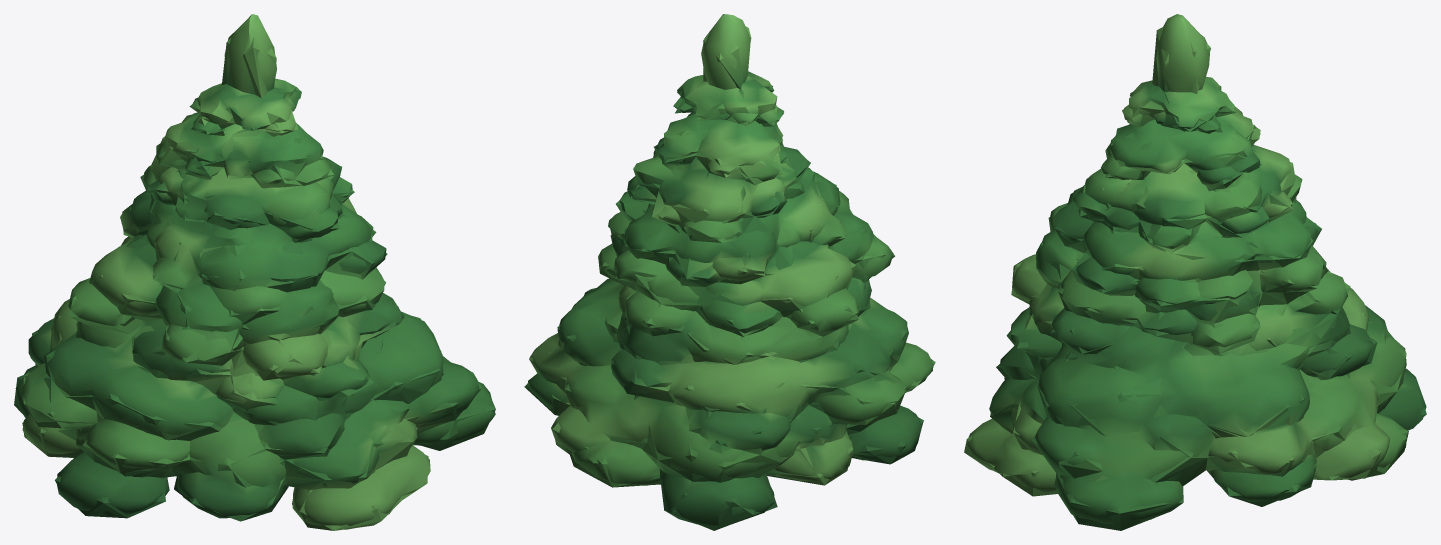
The model's file is pine_mature_medium_bushy.glb.
The picture shows the model from 3 angles, left to right: view 1: azimuth 30°, elevation 25°; view 2: azimuth 150°, elevation 25°; view 3: azimuth 270°, elevation 25°; orthographic projection. The views are drawn at different scales.
Parts seen in each view (by area): view 1: pine_mature_medium_bushy_LOD1, pine_mature_medium_bushy_LOD2; view 2: pine_mature_medium_bushy_LOD1, pine_mature_medium_bushy_LOD2; view 3: pine_mature_medium_bushy_LOD1, pine_mature_medium_bushy_LOD2.
Boxes of the visible parts, bbox=[...] form: pine_mature_medium_bushy_LOD1: bbox=[15, 14, 495, 529]; pine_mature_medium_bushy_LOD2: bbox=[14, 37, 495, 530]; pine_mature_medium_bushy_LOD1: bbox=[528, 14, 933, 525]; pine_mature_medium_bushy_LOD2: bbox=[524, 14, 935, 530]; pine_mature_medium_bushy_LOD1: bbox=[967, 14, 1426, 524]; pine_mature_medium_bushy_LOD2: bbox=[964, 17, 1426, 530].
Size of the model in its own units: 5.21 by 5.57 by 5.13.
